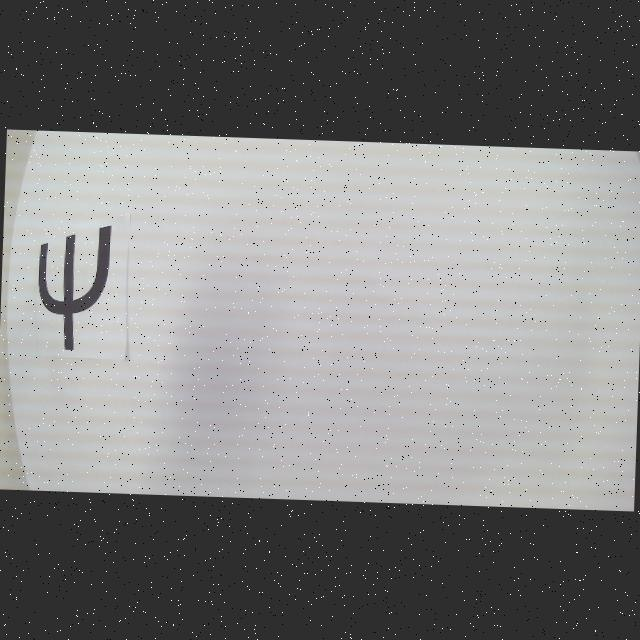PSI: (34, 222, 112, 352)
